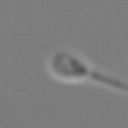normal: (92, 69, 128, 94)
